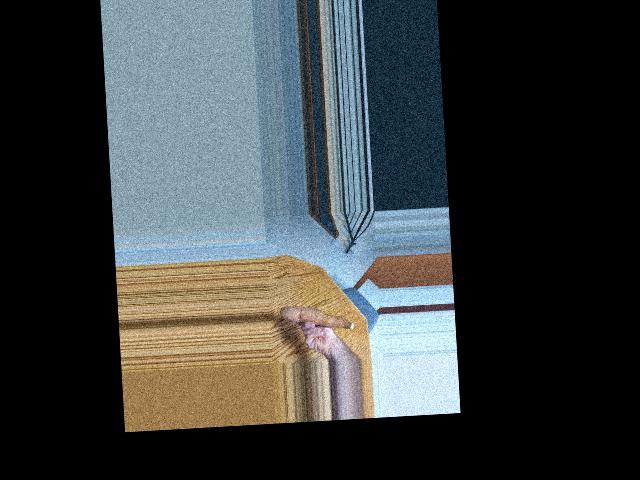sweet_potato: (282, 300, 355, 336)
